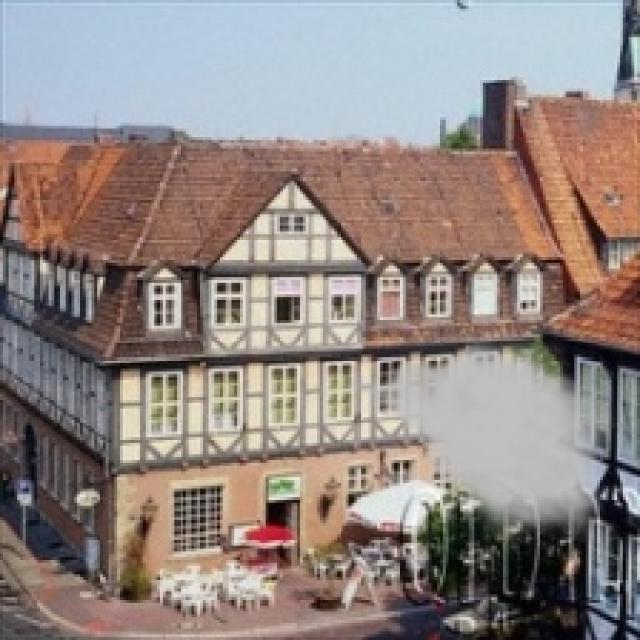smoke: (334, 334, 617, 546)
